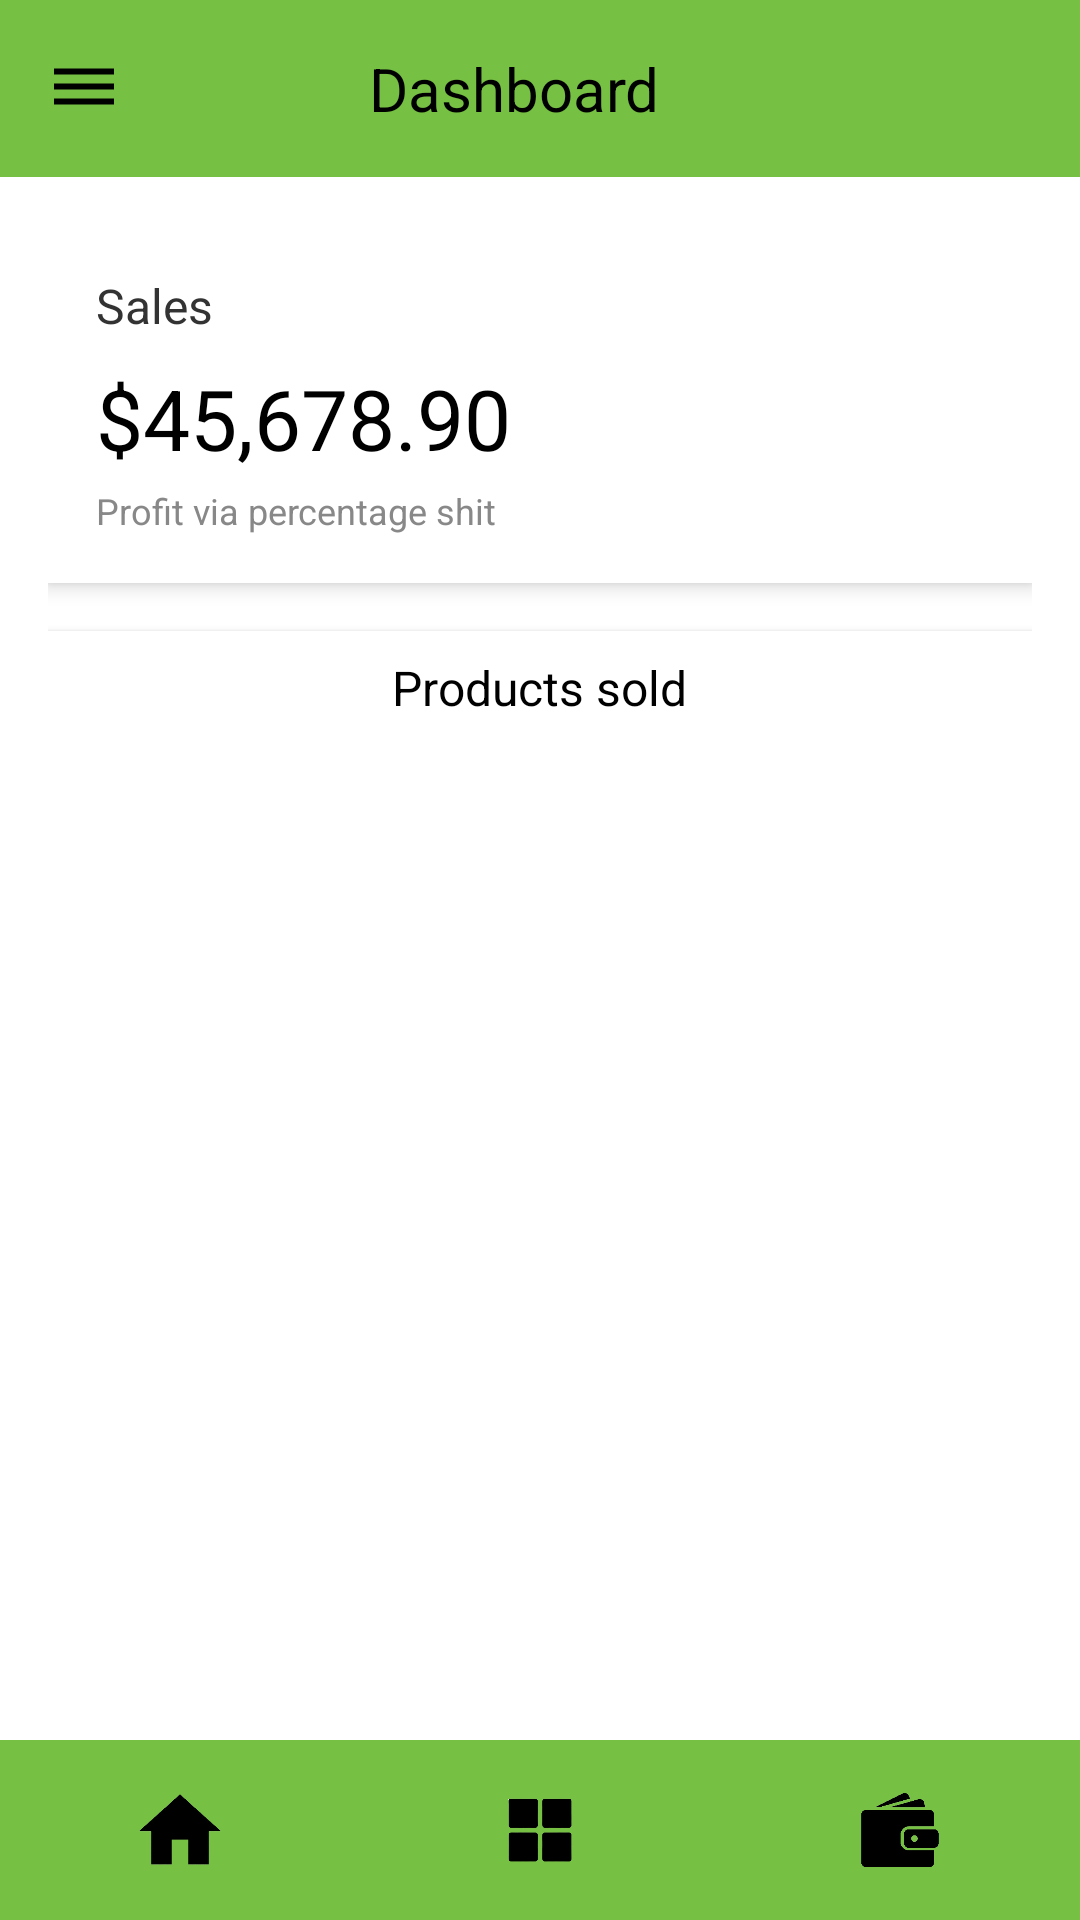

Screen size 1080 × 1920. Icon name, then its center in pixels as [x,y]:
dehaze: [84,86]
grid: [540,1830]
home: [180,1829]
